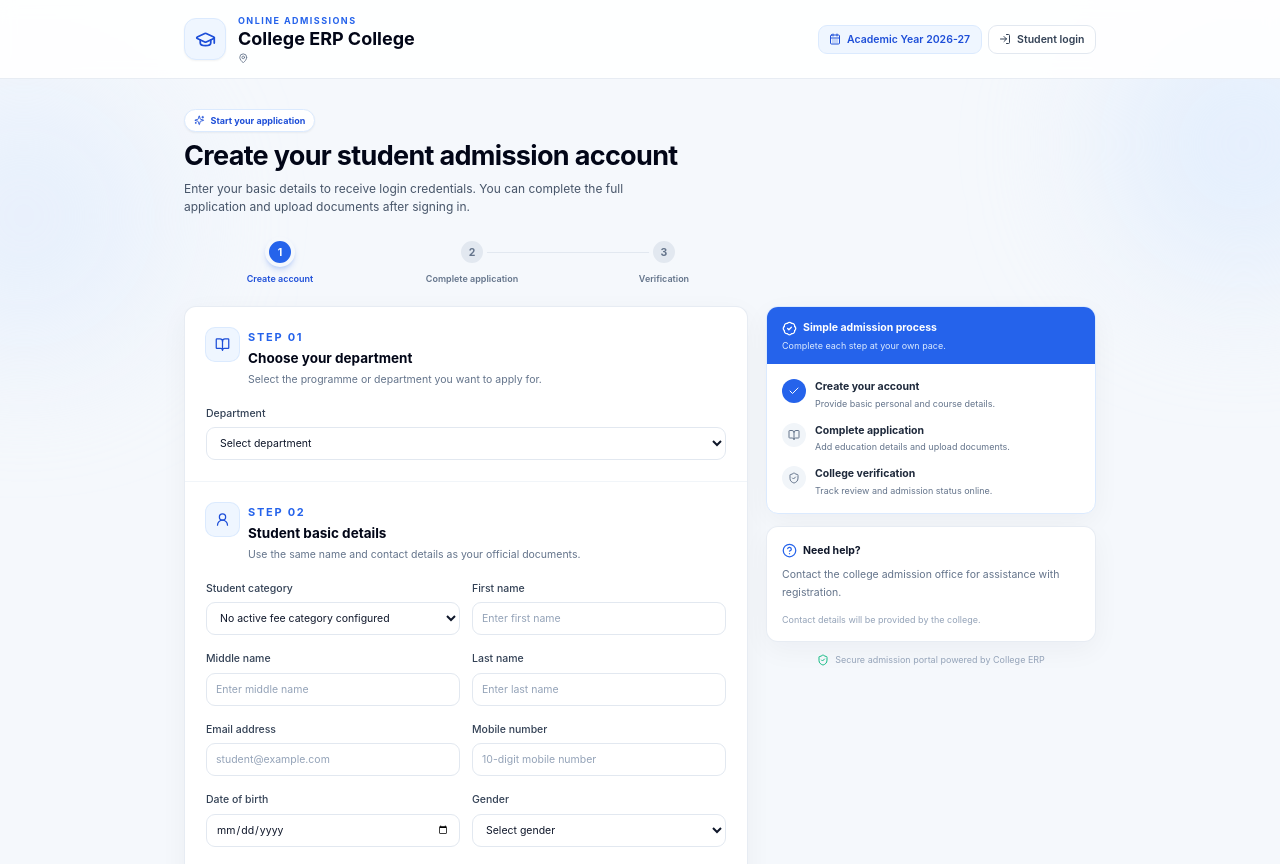
Test case: PublicAdmissionPage › explains when an Other category is unavailable for the selected gender
Expected: the heading "College ERP College" is shown, [238, 27, 415, 51]
Select "Computer Science (CS)" in the dropdown labelled "Department": (466, 444) [206, 427, 726, 460]
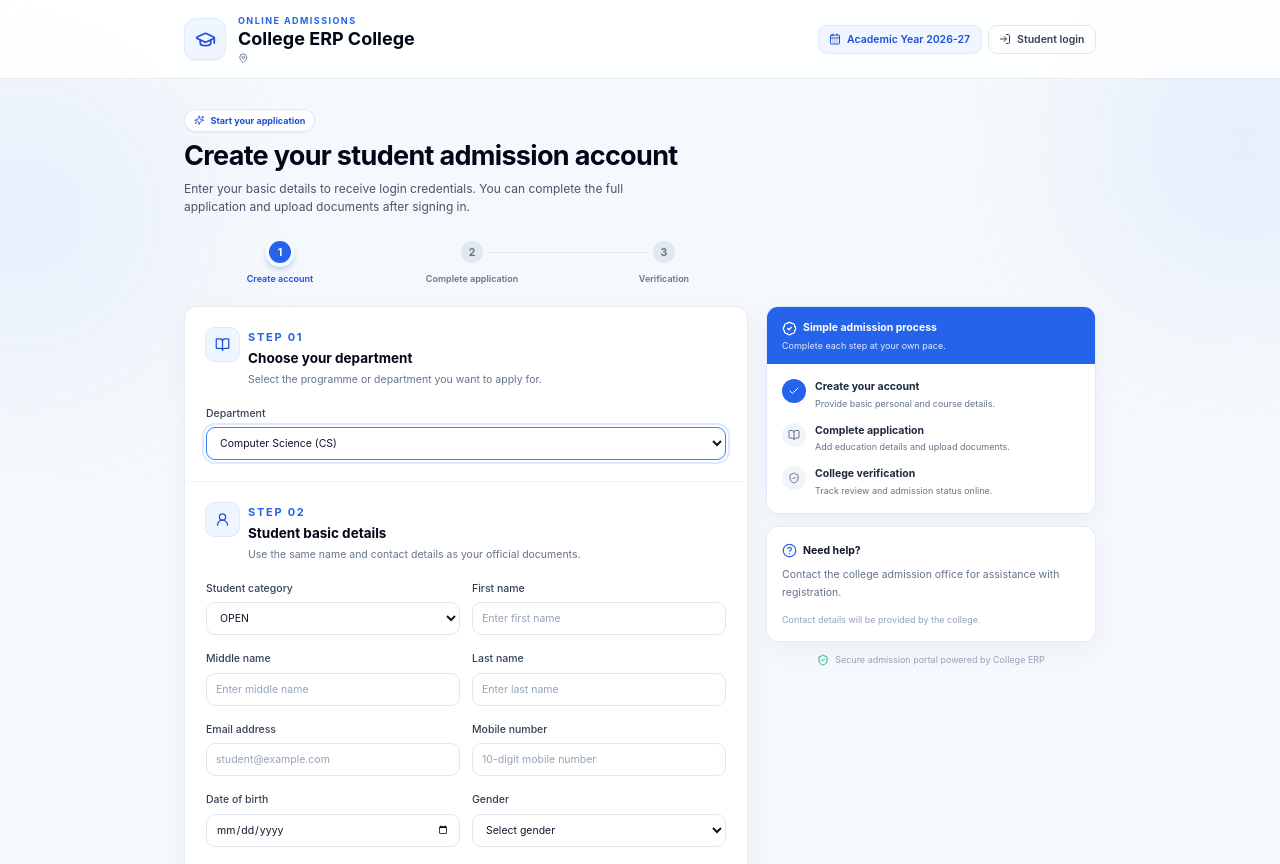
Select "OTHER" in the dropdown labelled "Student category": (333, 618) [206, 602, 460, 635]
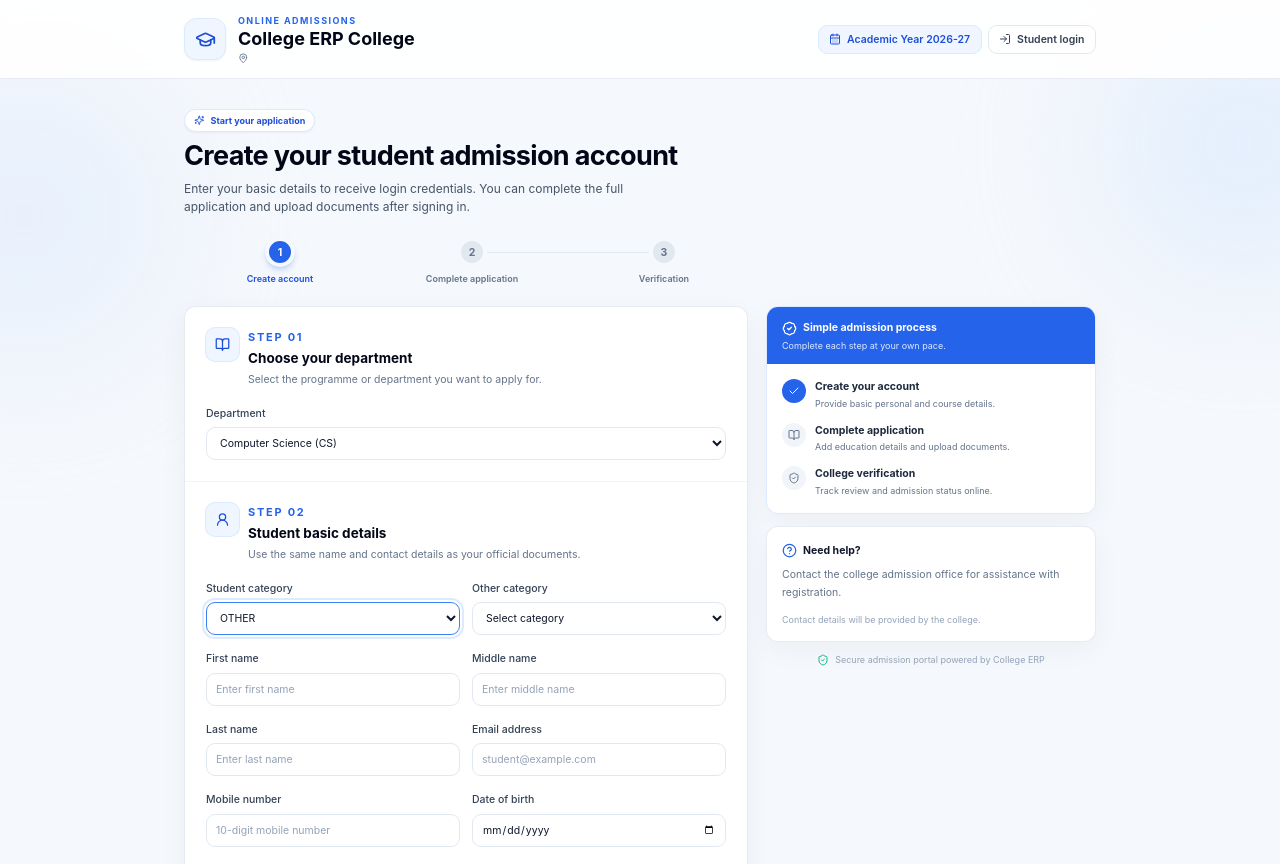
Select "NT" in the dropdown labelled "Other category": (599, 618) [472, 602, 726, 635]
(page scrolled)
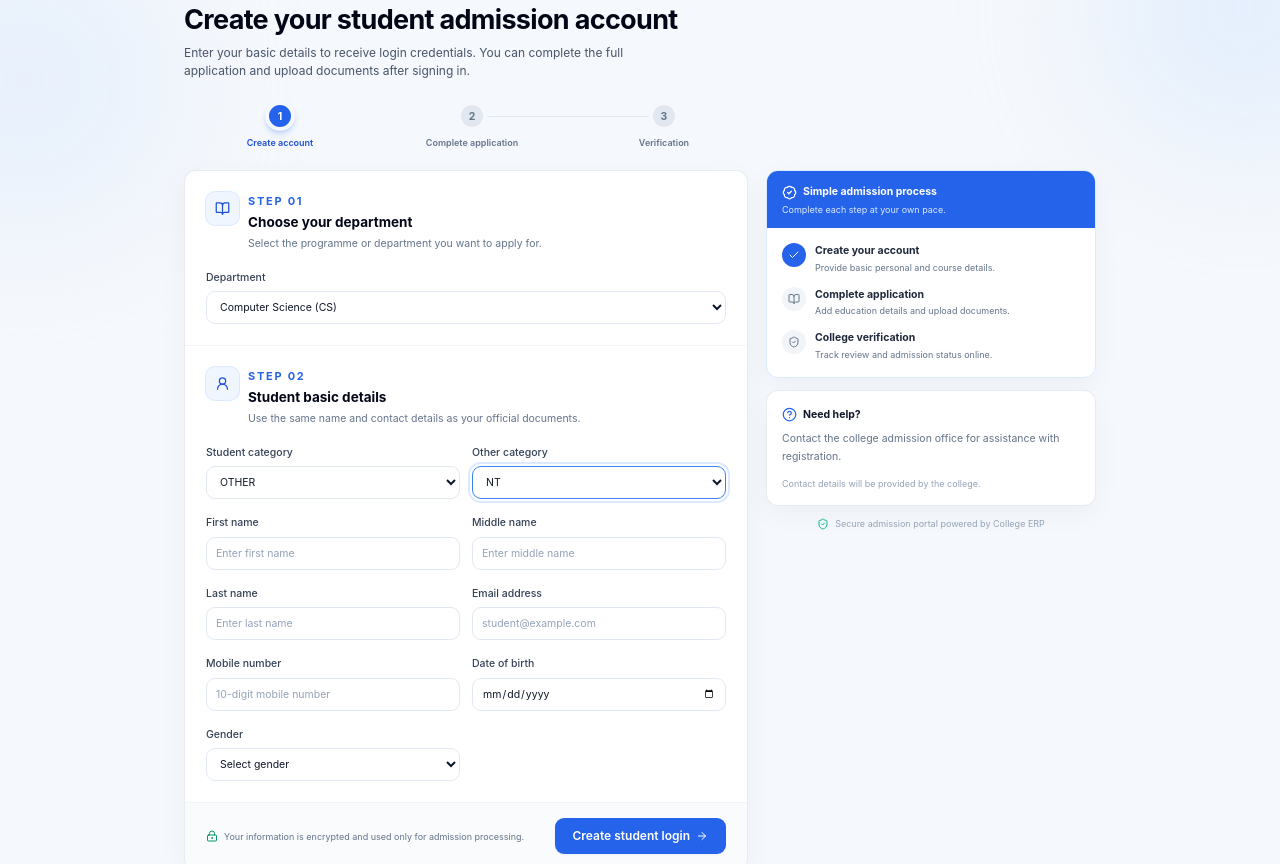
Select "Male" in the dropdown labelled "Gender": (333, 764) [206, 748, 460, 781]
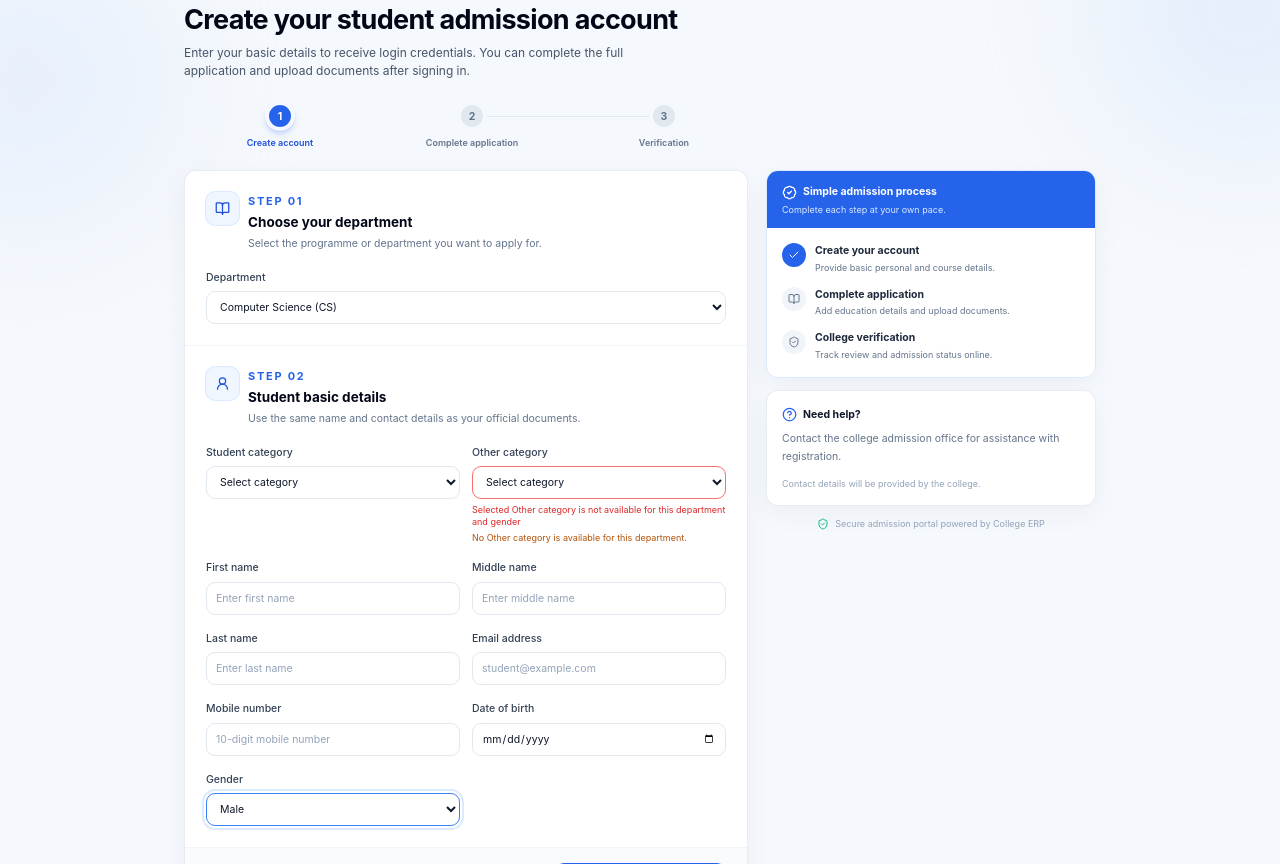
Now the text "Selected Other category is not available for this department and gender" is shown, box [472, 504, 726, 528]
